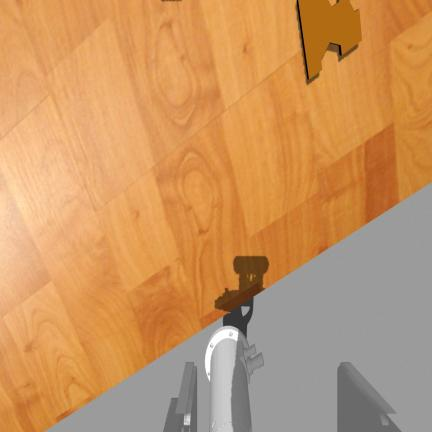cheese: (297, 0, 361, 79)
